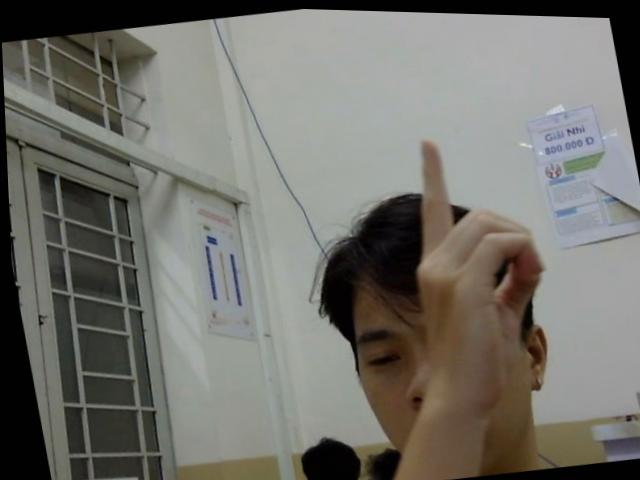D: (387, 120, 564, 403)
